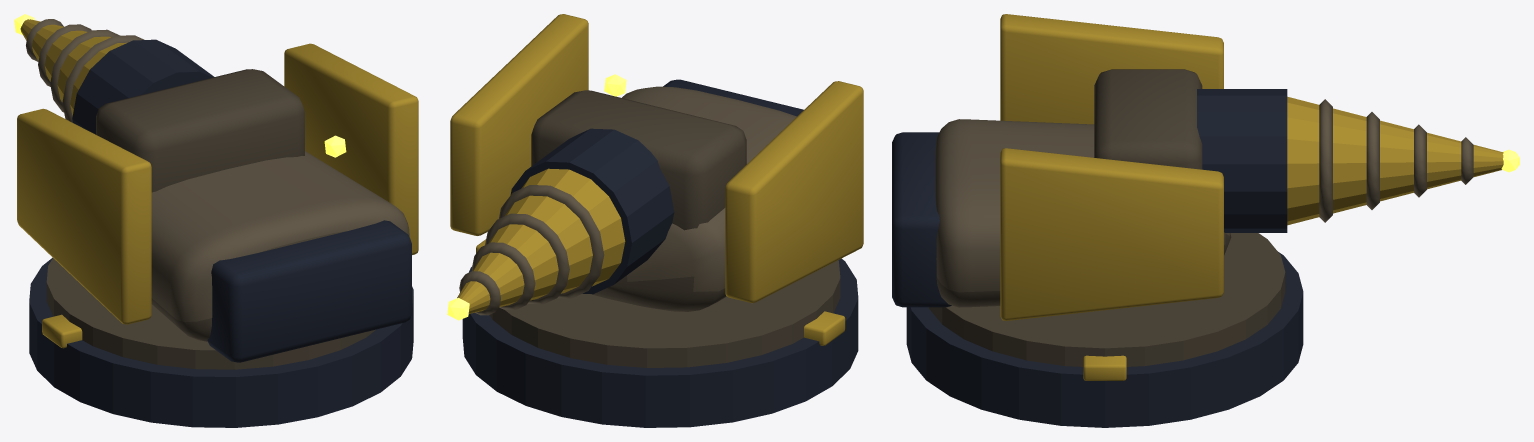
The model's file is turret_deep_core_drills.glb.
3 views of the same model, side by side, from view 1: azimuth 30°, elevation 25°; view 2: azimuth 150°, elevation 25°; view 3: azimuth 270°, elevation 25° (orthographic). The views are drawn at different scales.
Parts seen in each view (by area): view 1: Yaw_mesh, Base_mesh, Pitch_mesh; view 2: Yaw_mesh, Base_mesh, Pitch_mesh; view 3: Yaw_mesh, Base_mesh, Pitch_mesh.
Boxes of the visible parts, bbox=[...] form: Yaw_mesh: bbox=[17, 43, 418, 362]; Base_mesh: bbox=[29, 257, 413, 427]; Pitch_mesh: bbox=[14, 14, 304, 192]; Yaw_mesh: bbox=[450, 14, 863, 311]; Base_mesh: bbox=[462, 239, 858, 427]; Pitch_mesh: bbox=[447, 90, 746, 320]; Yaw_mesh: bbox=[892, 14, 1231, 320]; Base_mesh: bbox=[906, 233, 1303, 427]; Pitch_mesh: bbox=[1094, 69, 1519, 232].
Bounding box in the file's own units: 1.12 × 0.7881 × 1.74.
